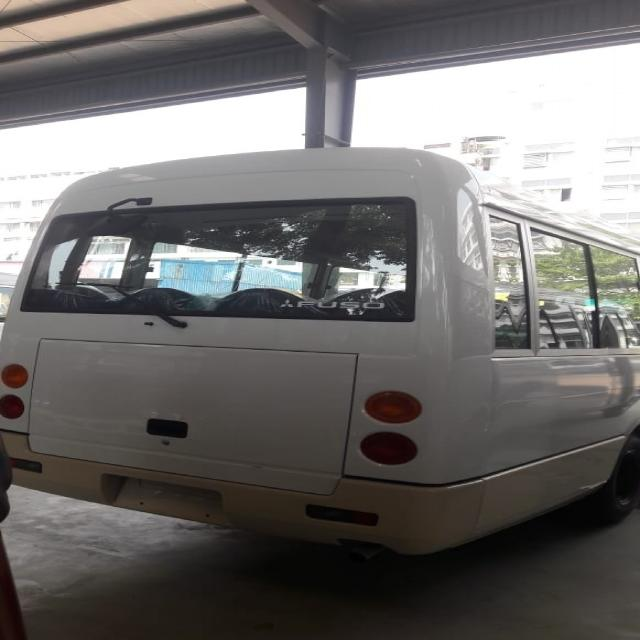bus: (1, 135, 640, 570)
